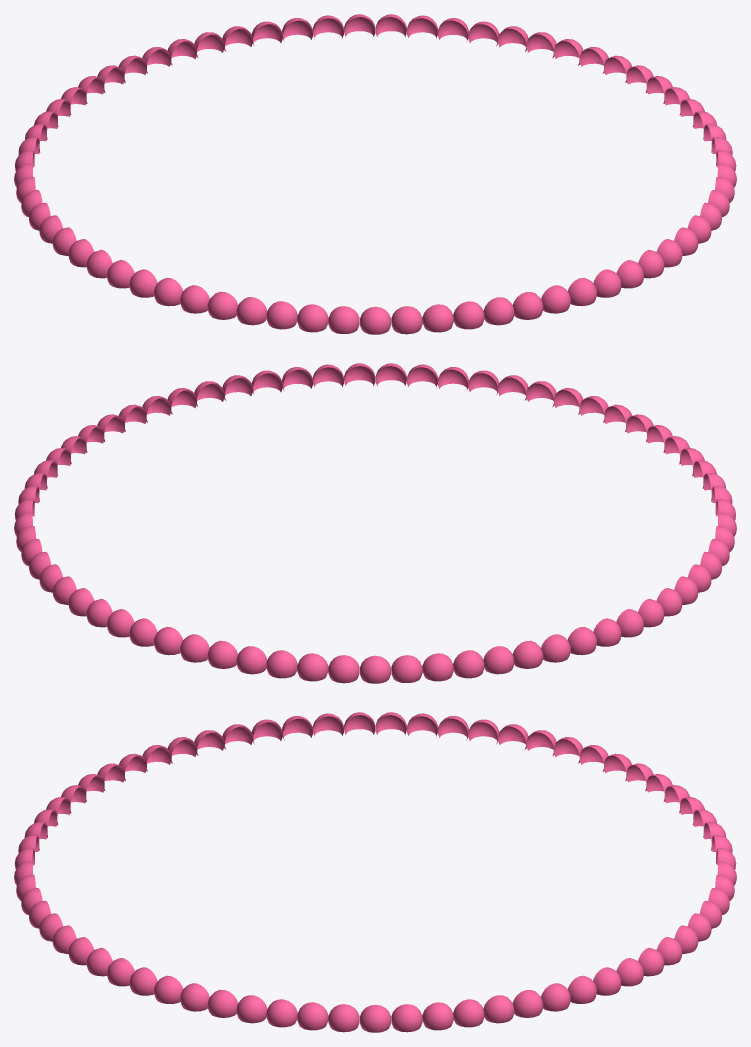
File: Cake_Lrg_itemsSide_Pearls-B.FBX
3 views of the same model, one above another, from view 1: azimuth 30°, elevation 25°; view 2: azimuth 150°, elevation 25°; view 3: azimuth 270°, elevation 25° (orthographic).
Parts seen in each view (by area): view 1: Cake_Lrg_itemsSide_Pearls-B; view 2: Cake_Lrg_itemsSide_Pearls-B; view 3: Cake_Lrg_itemsSide_Pearls-B.
Part boxes in pixels (left/top/right/bottom): Cake_Lrg_itemsSide_Pearls-B: left=14, top=14, right=736, bottom=334; Cake_Lrg_itemsSide_Pearls-B: left=14, top=363, right=736, bottom=683; Cake_Lrg_itemsSide_Pearls-B: left=14, top=712, right=736, bottom=1032.
Size of the model in its own units: 9877 by 319 by 9880.
